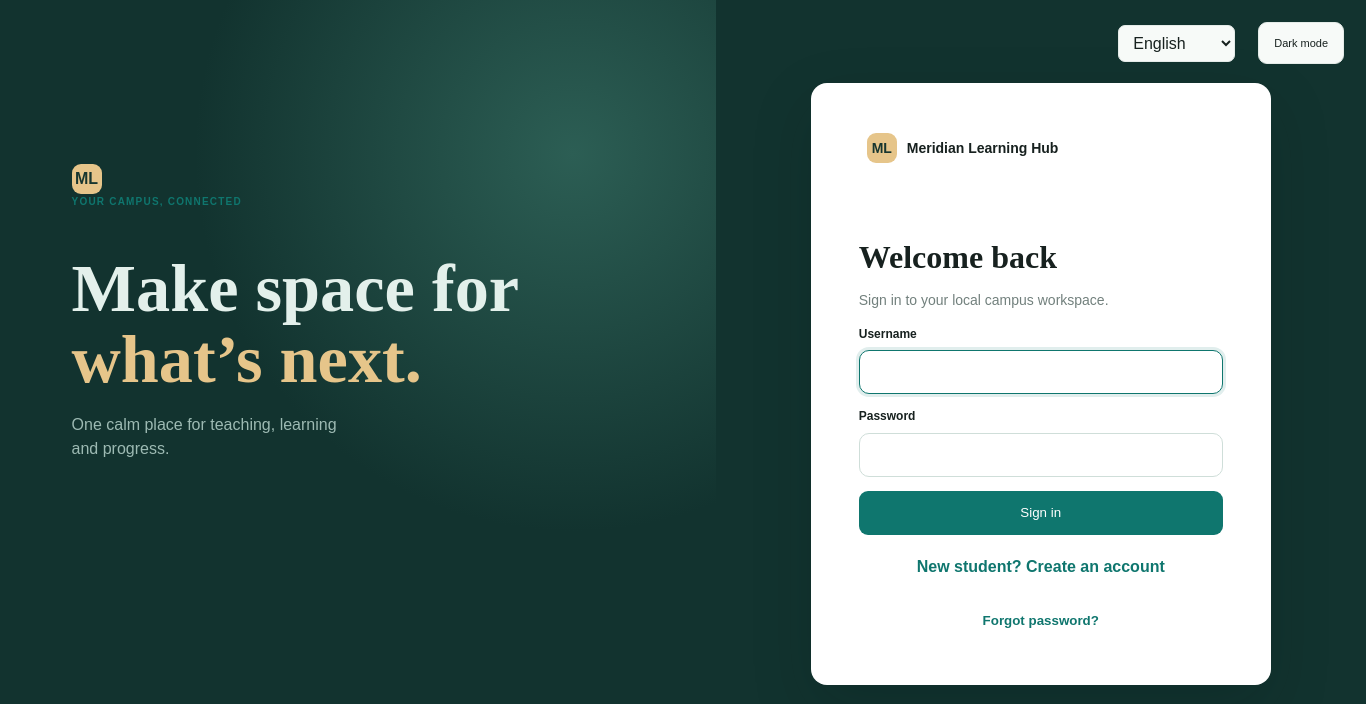
Test: allows a student to sign in through the API
Expected: the heading "Welcome back" is shown, [859,240,1057,276]
In the field labelled "Username": (1041, 372) [859,350,1223,394], type "student"
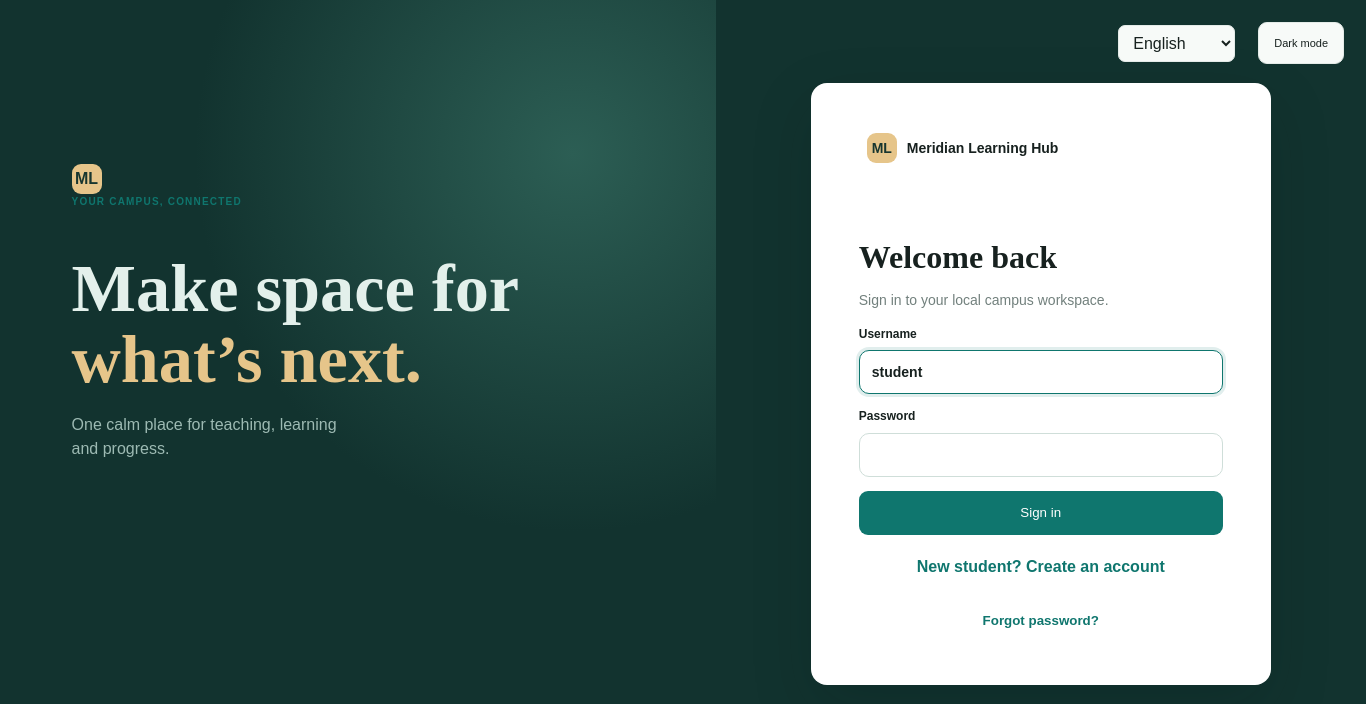
In the password field labelled "Password": (1041, 454) [859,432,1223,476], type "Student123!"
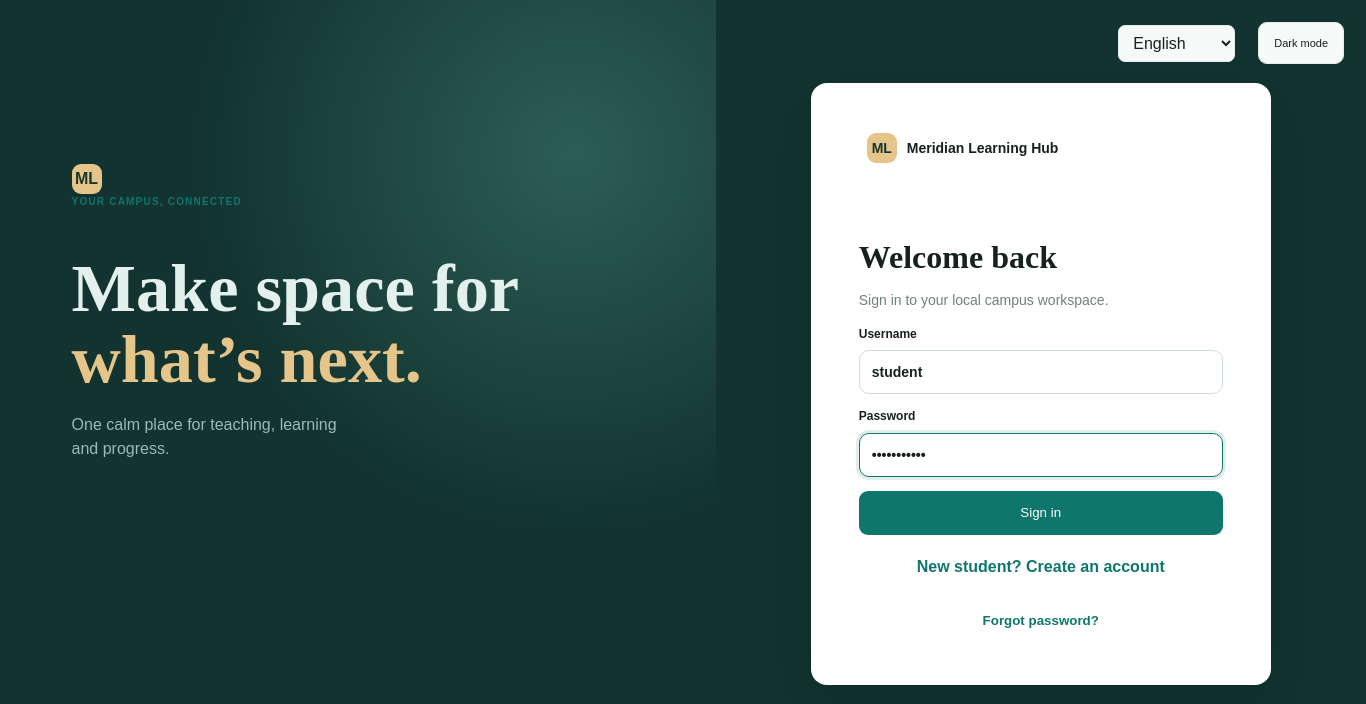
Click the button "Sign in": (1041, 512) [859,490,1223,534]
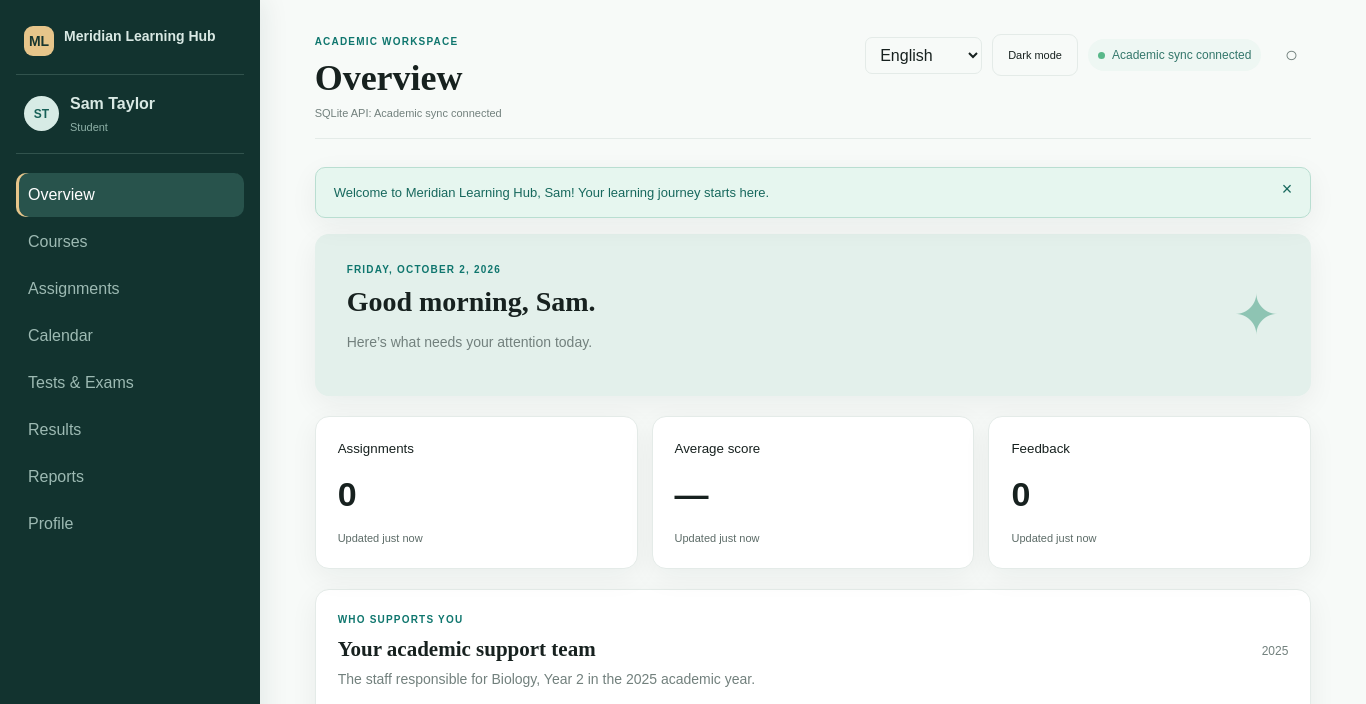
Now the heading "Good morning, Sam." is shown, box [347,286,596,318]
